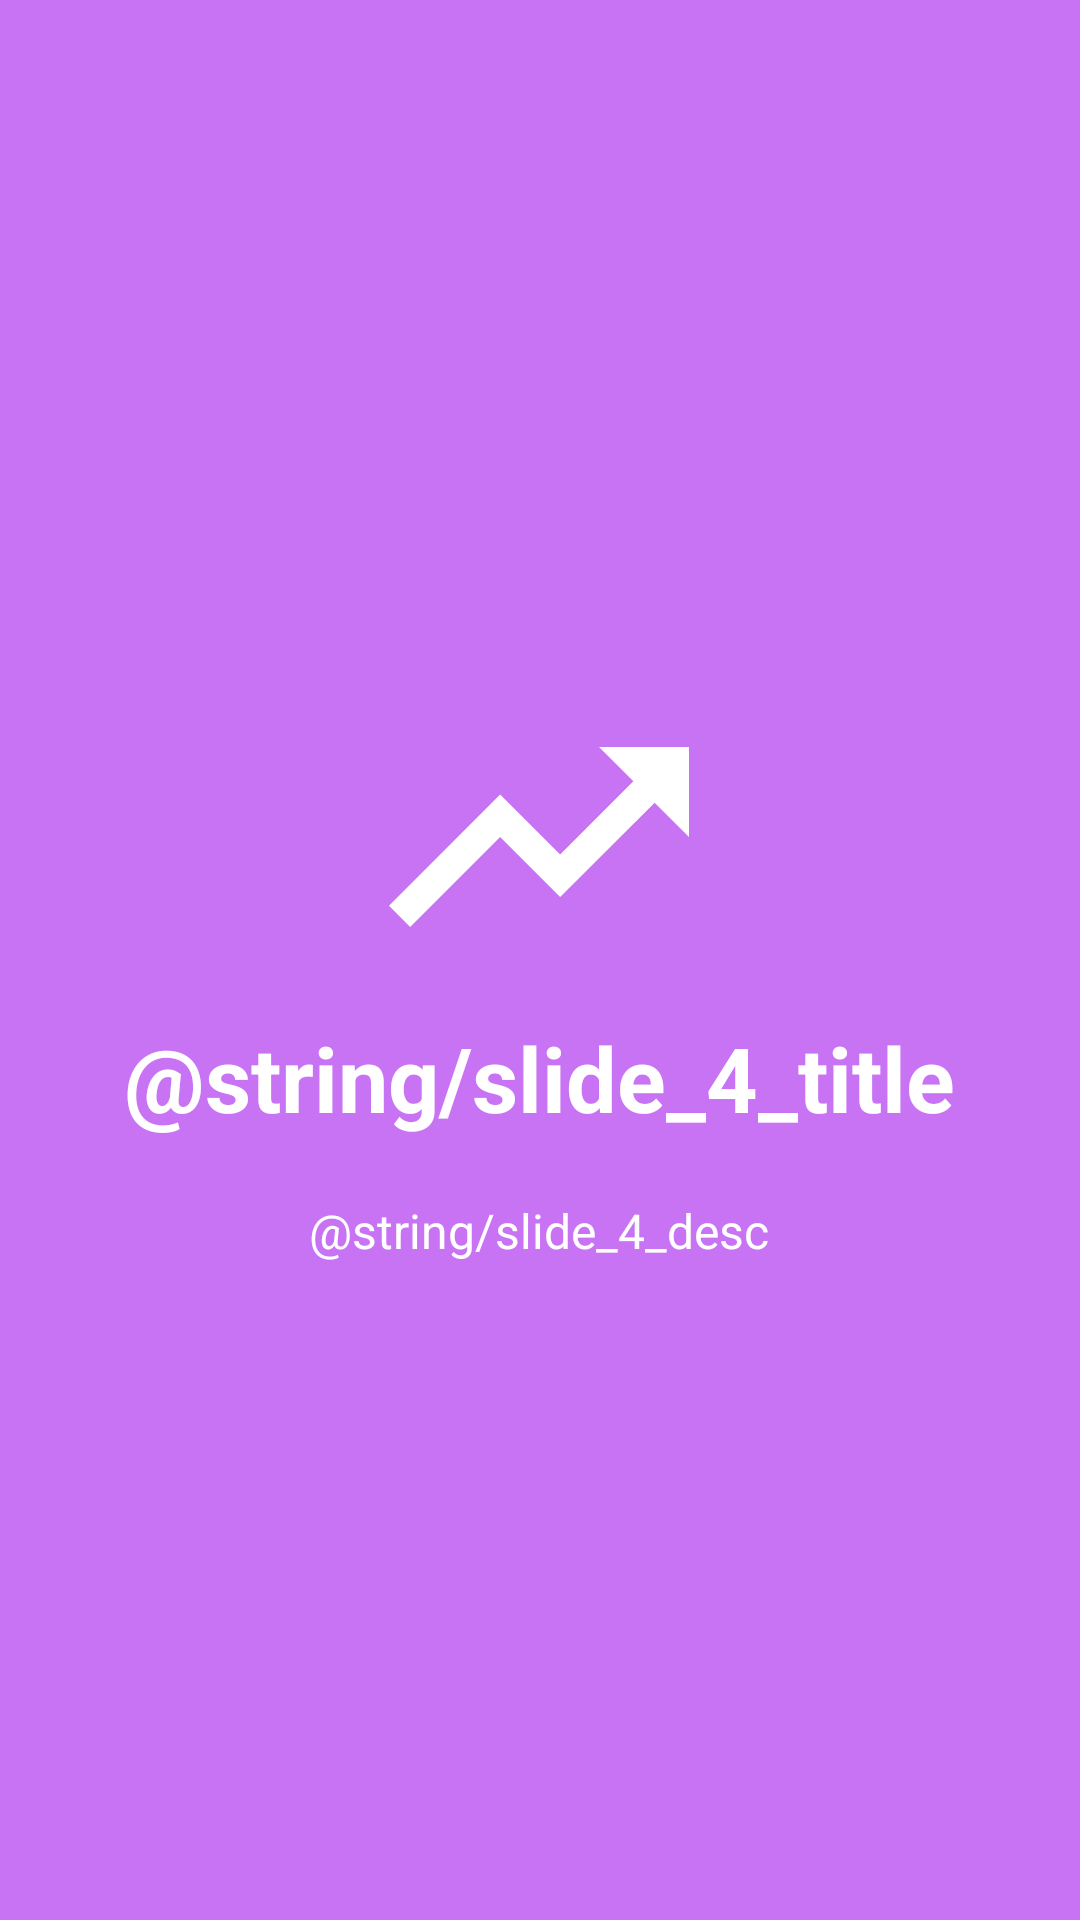

Screen size 1080x1920. Icon name, then its box in pixels as bbox=[x1, y1, x2, y2]:
trending up: bbox=[389, 747, 689, 927]
